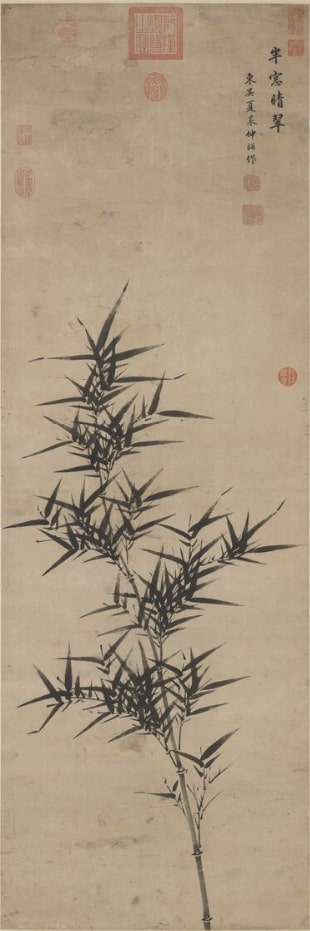bamboo: (30, 295, 277, 931)
